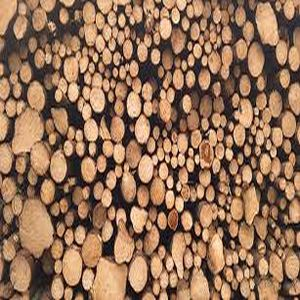log: (14, 198, 56, 260), (13, 106, 45, 155), (91, 258, 127, 300), (253, 2, 277, 48), (59, 247, 83, 287), (80, 231, 103, 269), (169, 231, 185, 284), (115, 219, 133, 266), (207, 232, 226, 274), (8, 256, 32, 289), (29, 142, 51, 178), (127, 256, 148, 293), (47, 149, 68, 185), (246, 42, 266, 79), (242, 185, 259, 228), (50, 106, 71, 139), (190, 267, 209, 300), (37, 177, 56, 208), (27, 80, 46, 111), (266, 253, 286, 282), (237, 220, 256, 250), (124, 92, 144, 120), (197, 140, 215, 171), (130, 207, 149, 234), (144, 225, 161, 255), (121, 172, 136, 206), (137, 154, 154, 184), (238, 97, 254, 128), (135, 114, 151, 145), (78, 157, 97, 183), (124, 139, 141, 168), (281, 111, 298, 140), (268, 90, 285, 119), (110, 117, 128, 144), (89, 88, 107, 115), (31, 9, 49, 36), (63, 56, 80, 84), (91, 203, 106, 234), (81, 121, 101, 144), (207, 49, 224, 76), (170, 28, 187, 55), (84, 20, 99, 50), (240, 19, 257, 45), (11, 15, 28, 41), (286, 84, 300, 115), (78, 267, 96, 291), (230, 198, 247, 223), (2, 178, 17, 206), (275, 39, 289, 68), (150, 178, 165, 205), (199, 94, 214, 121), (284, 253, 300, 278), (257, 279, 276, 300), (234, 38, 249, 64), (254, 216, 268, 243), (148, 254, 163, 279), (157, 99, 172, 124), (48, 276, 64, 299), (166, 209, 182, 232), (258, 152, 274, 175), (1, 145, 13, 175), (134, 183, 149, 207), (179, 210, 194, 234), (234, 7, 249, 31), (161, 47, 176, 71), (220, 46, 236, 68), (286, 198, 300, 223), (97, 116, 111, 141), (186, 110, 201, 133), (224, 219, 241, 239), (212, 95, 229, 115), (287, 45, 300, 71), (2, 240, 18, 261), (199, 204, 213, 228), (112, 144, 127, 166), (198, 68, 213, 90), (282, 2, 297, 24), (6, 100, 28, 115), (72, 186, 90, 204), (232, 124, 246, 147), (239, 74, 253, 97), (253, 74, 269, 94), (76, 199, 91, 220), (129, 76, 144, 97), (132, 6, 147, 27), (91, 181, 105, 203), (112, 97, 126, 119), (173, 69, 187, 91), (100, 220, 115, 240), (67, 34, 82, 54), (96, 152, 109, 175), (122, 39, 135, 62), (84, 1, 96, 25), (104, 169, 117, 191), (189, 21, 202, 43), (67, 83, 80, 105), (19, 63, 32, 85), (220, 25, 235, 44), (50, 238, 64, 258), (256, 258, 270, 278), (182, 249, 195, 270), (136, 43, 149, 64), (101, 141, 116, 159), (190, 129, 205, 147), (74, 226, 88, 245), (56, 7, 70, 26), (11, 196, 24, 216), (14, 157, 27, 177), (25, 167, 38, 187), (156, 212, 168, 233), (100, 190, 113, 209), (177, 167, 190, 186), (149, 48, 162, 67), (159, 19, 172, 38), (164, 189, 175, 211), (116, 206, 128, 226), (241, 164, 253, 184), (254, 93, 269, 109), (278, 68, 290, 88), (142, 81, 154, 101), (143, 1, 158, 17), (101, 48, 113, 68), (194, 241, 208, 258), (286, 278, 300, 295), (197, 169, 211, 186), (266, 187, 280, 204), (127, 60, 141, 77), (51, 54, 65, 71), (2, 205, 15, 223), (107, 205, 120, 223), (146, 205, 159, 223), (271, 128, 284, 146), (8, 55, 21, 73), (177, 134, 188, 155), (63, 209, 75, 228), (240, 279, 252, 298), (184, 70, 196, 89), (95, 34, 107, 53), (62, 230, 75, 247), (24, 183, 37, 200), (261, 109, 274, 126), (33, 49, 46, 66), (44, 72, 55, 92), (1, 117, 9, 144), (74, 140, 86, 158), (220, 282, 232, 300), (204, 185, 216, 203), (157, 162, 169, 180), (213, 142, 225, 160), (207, 129, 219, 147), (146, 137, 158, 155), (81, 103, 93, 121), (142, 100, 154, 118), (152, 32, 164, 50), (107, 11, 119, 29), (193, 221, 204, 240), (285, 229, 296, 248), (209, 203, 220, 222), (221, 10, 232, 29), (201, 1, 212, 20), (52, 259, 65, 275), (210, 112, 223, 128), (1, 77, 10, 100), (49, 202, 61, 219), (175, 194, 187, 211), (248, 156, 260, 173), (45, 117, 57, 134), (212, 80, 224, 97), (193, 1, 205, 18), (111, 51, 123, 68), (28, 36, 40, 53), (183, 93, 193, 113), (170, 6, 180, 26), (87, 141, 98, 159), (196, 183, 207, 201), (96, 1, 114, 12), (79, 55, 90, 73), (229, 92, 242, 107), (158, 272, 170, 288), (192, 254, 204, 270), (165, 88, 177, 104), (55, 222, 66, 239), (63, 139, 74, 156), (164, 256, 175, 273), (213, 275, 224, 292), (227, 237, 238, 254), (284, 183, 295, 200), (254, 130, 265, 147), (186, 157, 197, 174), (73, 129, 86, 143), (189, 184, 198, 204), (283, 163, 295, 178), (220, 66, 232, 81), (192, 44, 204, 59), (102, 25, 112, 43), (95, 13, 105, 31), (56, 79, 68, 94), (219, 169, 230, 185), (224, 135, 235, 151), (179, 118, 190, 134), (90, 71, 101, 87), (60, 198, 70, 215), (218, 192, 228, 209), (181, 16, 191, 33), (213, 8, 223, 25), (182, 232, 195, 245), (202, 41, 215, 54), (158, 8, 171, 21), (15, 172, 27, 186), (142, 33, 156, 45), (47, 131, 58, 146), (180, 185, 191, 200), (224, 147, 235, 162), (124, 3, 135, 18), (13, 84, 24, 99), (163, 137, 172, 155), (117, 30, 126, 48), (169, 273, 179, 289), (257, 239, 267, 255), (211, 159, 221, 175), (243, 142, 253, 158), (224, 268, 235, 282), (287, 151, 298, 165), (53, 89, 64, 103), (56, 45, 67, 59), (152, 124, 161, 141), (199, 17, 208, 34), (260, 204, 270, 219), (155, 147, 165, 162), (164, 70, 174, 85), (135, 239, 144, 255), (150, 152, 159, 168), (185, 3, 194, 19), (82, 86, 91, 102), (113, 165, 123, 179), (239, 248, 249, 262), (273, 225, 283, 239), (66, 126, 76, 140), (118, 65, 128, 79), (82, 72, 92, 86), (217, 127, 225, 144), (62, 285, 71, 300), (166, 175, 175, 190), (229, 159, 238, 174), (277, 177, 286, 192), (263, 124, 272, 139), (178, 153, 187, 168), (220, 114, 229, 129), (128, 123, 137, 138), (186, 53, 195, 68), (118, 13, 127, 28), (46, 50, 55, 65), (62, 182, 73, 194), (144, 219, 154, 232), (170, 156, 180, 169), (201, 118, 211, 131), (152, 280, 160, 296), (225, 250, 232, 268), (216, 225, 225, 239), (218, 208, 227, 222), (279, 197, 288, 211), (236, 152, 245, 166), (156, 65, 165, 79), (53, 72, 62, 86), (10, 72, 19, 86), (121, 163, 131, 175), (271, 206, 279, 221), (171, 130, 179, 145), (174, 55, 182, 70), (123, 26, 131, 41), (111, 68, 121, 80), (153, 97, 160, 114), (235, 267, 244, 280), (175, 180, 183, 194), (170, 143, 178, 157), (107, 90, 115, 104), (186, 39, 194, 53), (219, 182, 229, 193), (249, 124, 259, 135), (208, 33, 218, 44), (242, 267, 251, 279), (187, 146, 195, 159), (233, 175, 244, 184), (88, 64, 97, 75), (76, 26, 85, 37), (246, 253, 254, 265), (265, 140, 273, 152), (254, 145, 262, 157), (103, 68, 111, 80), (256, 172, 263, 185), (228, 121, 235, 134), (198, 34, 205, 47), (269, 239, 278, 249), (279, 236, 287, 247), (159, 88, 167, 99), (181, 59, 189, 70), (226, 213, 233, 225), (194, 153, 201, 165), (165, 152, 172, 164), (110, 78, 117, 90), (11, 233, 19, 243), (253, 116, 261, 126), (201, 55, 209, 65), (274, 2, 282, 12), (233, 251, 239, 264), (269, 172, 276, 183), (253, 108, 261, 117), (160, 130, 168, 139), (159, 248, 166, 258), (270, 147, 277, 157), (93, 52, 100, 62), (162, 78, 168, 88)
